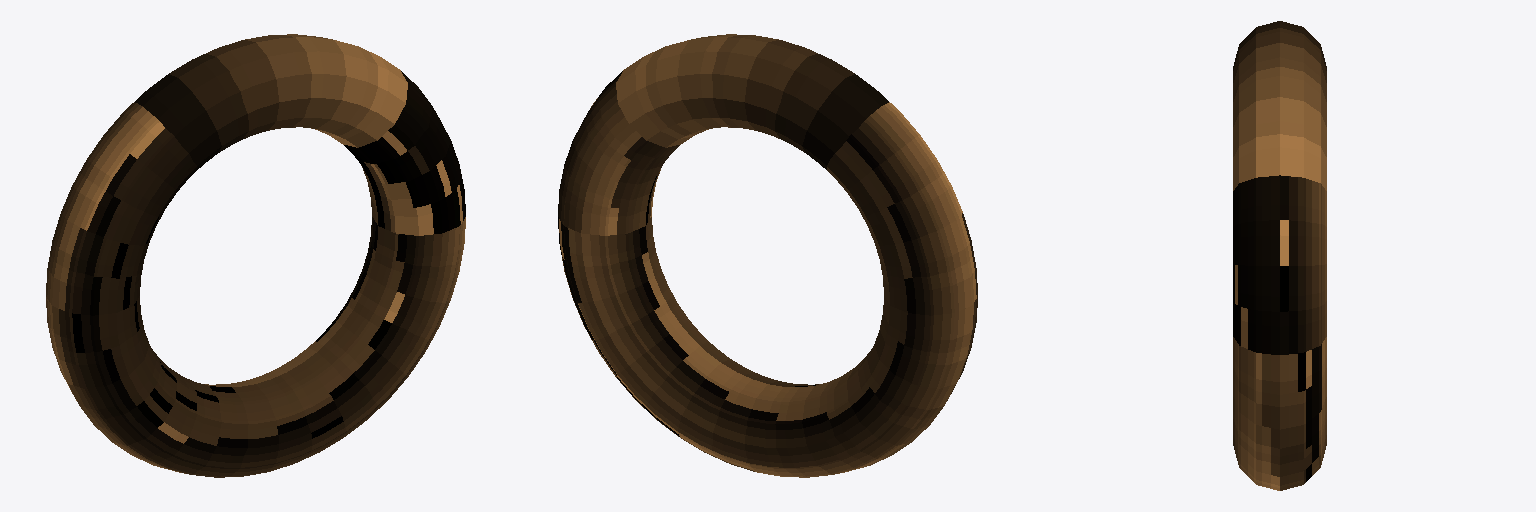
3 renders of one model, left to right at view 1: azimuth 30°, elevation 25°; view 2: azimuth 150°, elevation 25°; view 3: azimuth 270°, elevation 25°, orthographic.
Parts seen in each view (by area): view 1: トーラス; view 2: トーラス; view 3: トーラス.
Boxes of the visible parts, x1=… form: トーラス: x1=46, y1=34, x2=465, y2=477; トーラス: x1=558, y1=34, x2=977, y2=477; トーラス: x1=1233, y1=21, x2=1326, y2=490.
Bounding box in the file's own units: 0.75 × 0.75 × 0.15.
1 materials, 1 textured.